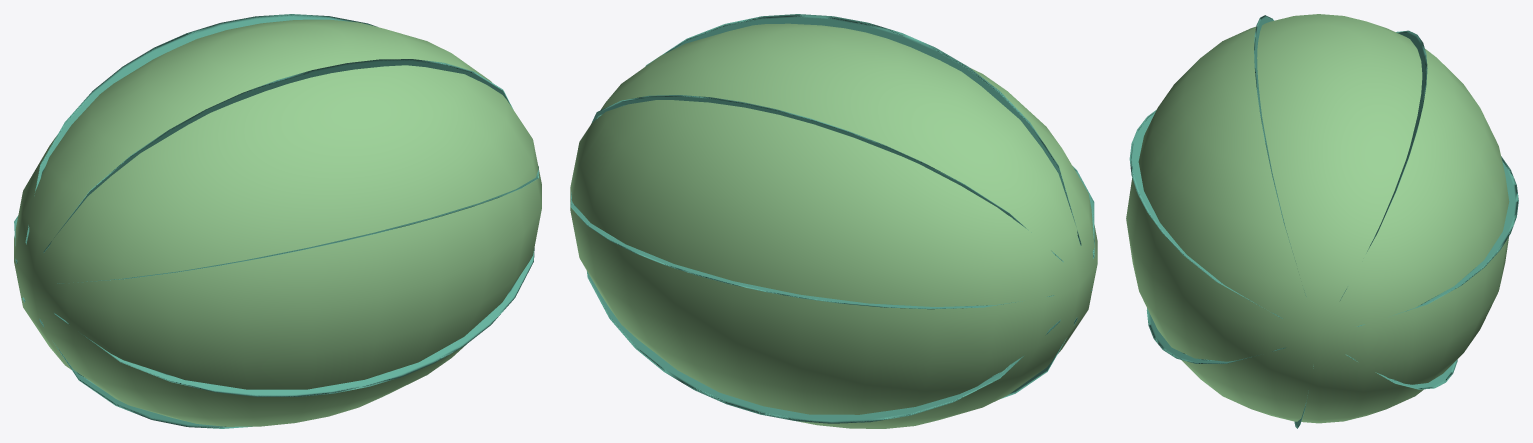
File: watermelon.glb
The picture shows the model from 3 angles, left to right: view 1: azimuth 30°, elevation 25°; view 2: azimuth 150°, elevation 25°; view 3: azimuth 270°, elevation 25°; orthographic projection. The views are drawn at different scales.
Parts seen in each view (by area): view 1: watermelon; view 2: watermelon; view 3: watermelon.
Boxes of the visible parts, bbox=[...] form: watermelon: bbox=[14, 14, 541, 428]; watermelon: bbox=[570, 14, 1097, 428]; watermelon: bbox=[1126, 14, 1518, 428].
Size of the model in its own units: 1.2 by 0.8553 by 0.8758.
